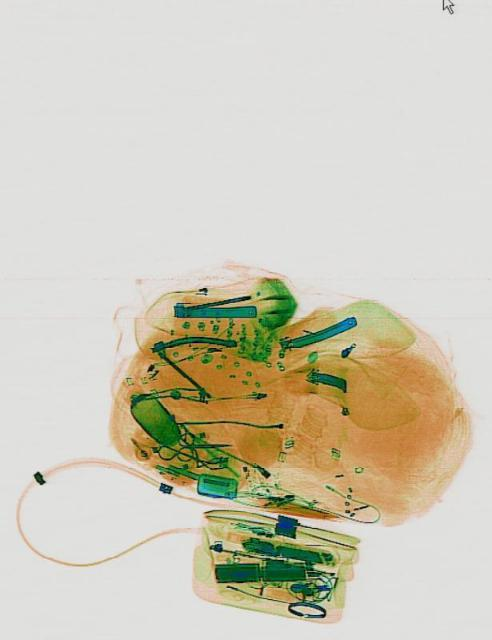Scissors: (176, 431, 230, 462)
